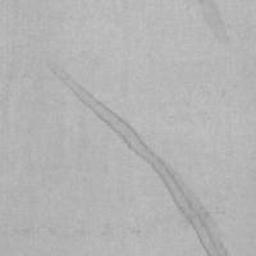Water spot: (44, 60, 230, 256), (196, 0, 234, 52)
